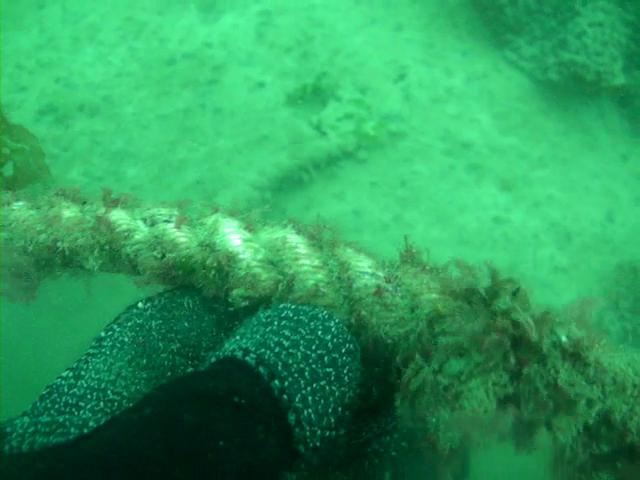rope: (0, 197, 391, 327)
